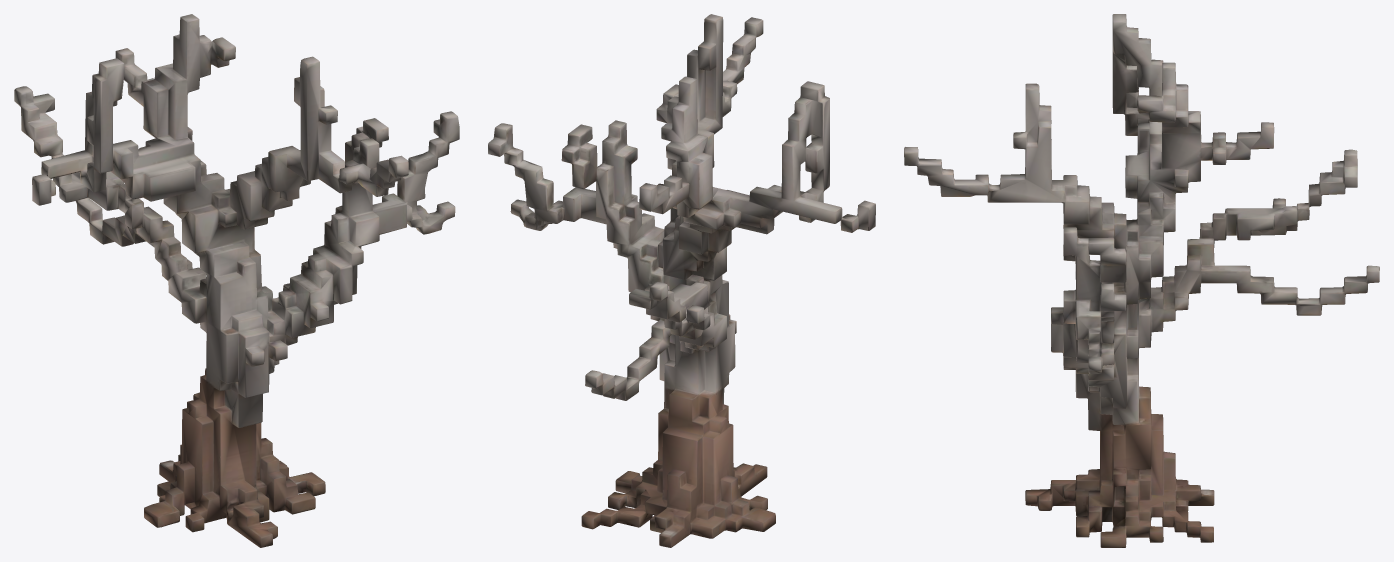
The model's file is deadwood.glb.
3 views of the same model, side by side, from view 1: azimuth 30°, elevation 25°; view 2: azimuth 150°, elevation 25°; view 3: azimuth 270°, elevation 25° (orthographic). The views are drawn at different scales.
Visible parts, largest first — view 1: node_0; view 2: node_0; view 3: node_0.
Boxes of the visible parts, box(x1,y1,x2,y2) form: node_0: box(14, 14, 459, 547); node_0: box(488, 14, 875, 547); node_0: box(904, 14, 1379, 547).
Size of the model in its own units: 0.8632 by 0.9585 by 0.9424.
Materials: 1 (1 with a texture image).
